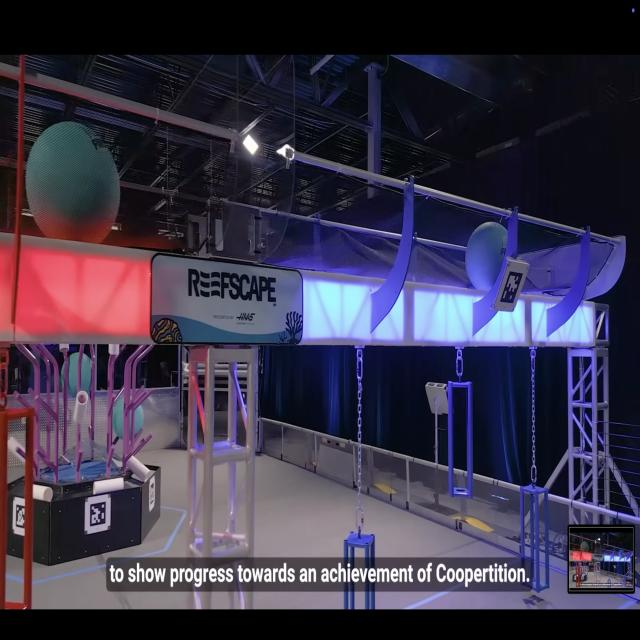algae: (21, 118, 123, 254), (460, 216, 513, 294), (110, 390, 146, 442), (63, 351, 97, 398)
coral: (7, 433, 42, 469), (124, 451, 154, 481), (90, 475, 126, 497), (23, 481, 54, 506), (73, 388, 90, 431)
